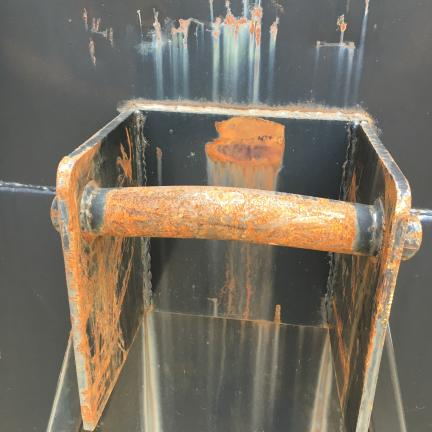besi_tidak_karat: (136, 115, 203, 185), (284, 123, 340, 191), (347, 135, 378, 199), (96, 133, 127, 146)
karat: (80, 186, 382, 255), (64, 232, 120, 359), (216, 120, 283, 165), (74, 360, 104, 413), (67, 157, 101, 182)
